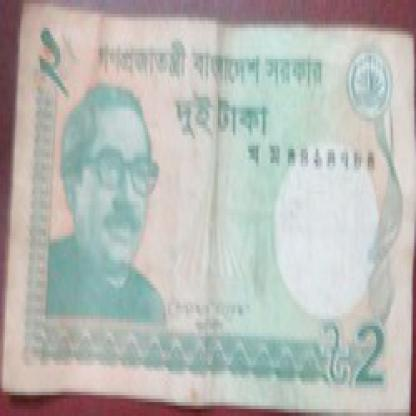two taka: (172, 86, 276, 152), (32, 24, 73, 94)
